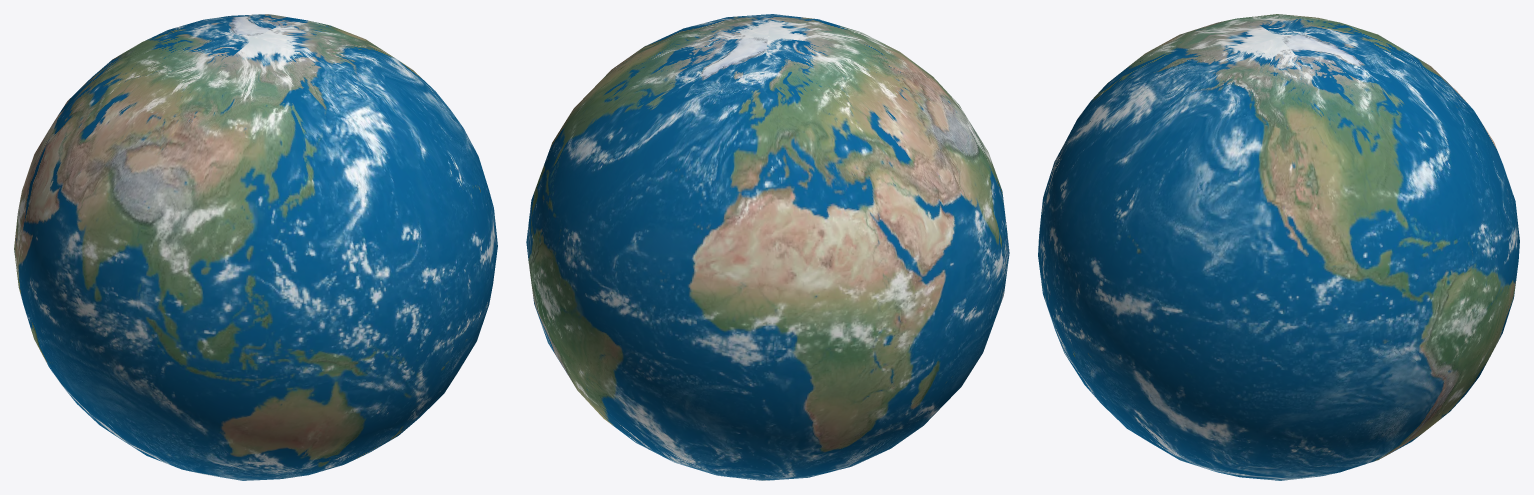
File: earth_glb-opt.glb
The picture shows the model from 3 angles, left to right: view 1: azimuth 30°, elevation 25°; view 2: azimuth 150°, elevation 25°; view 3: azimuth 270°, elevation 25°; orthographic projection.
Visible parts, largest first — view 1: Earth; view 2: Earth; view 3: Earth.
Boxes of the visible parts, bbox=[...] form: Earth: bbox=[14, 14, 497, 480]; Earth: bbox=[526, 14, 1009, 480]; Earth: bbox=[1038, 14, 1519, 480].
Size of the model in its own units: 4.84 by 4.67 by 4.84.
1 material, 1 textured.
